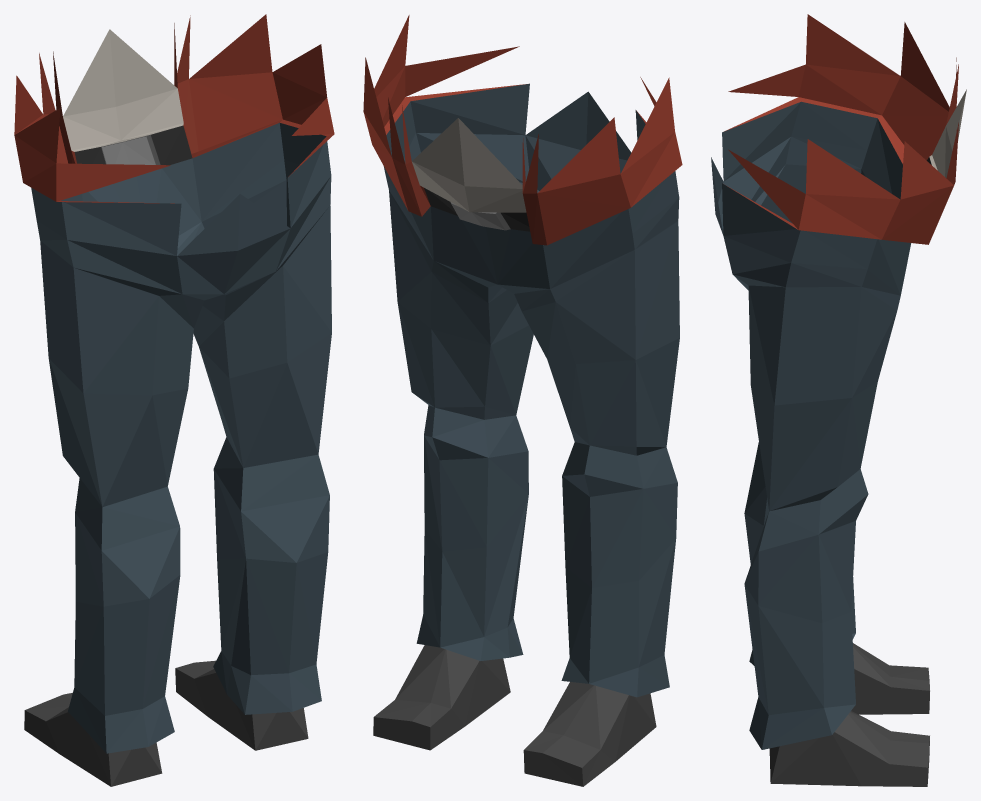
Rendered from Legs.obj.
3 views of the same model, side by side, from view 1: azimuth 30°, elevation 25°; view 2: azimuth 150°, elevation 25°; view 3: azimuth 270°, elevation 25° (orthographic).
Size of the model in its own units: 0.4435 by 1.03 by 0.3602.
Materials: 1 (1 with a texture image).
